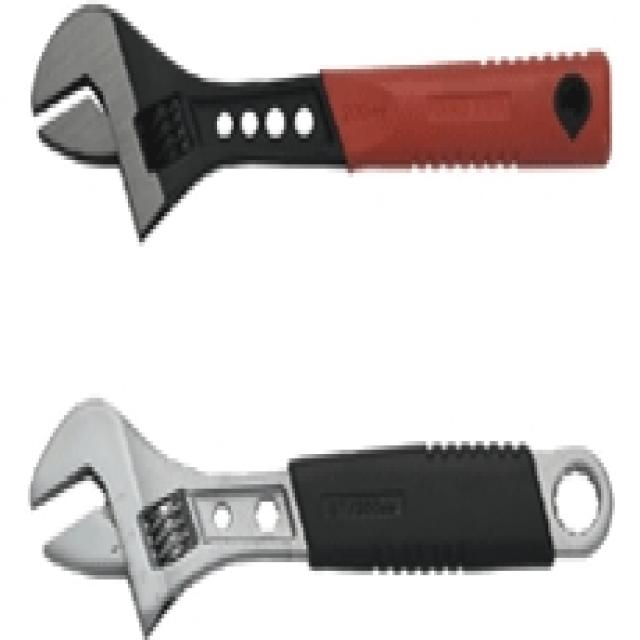wrench: (14, 362, 640, 640)
